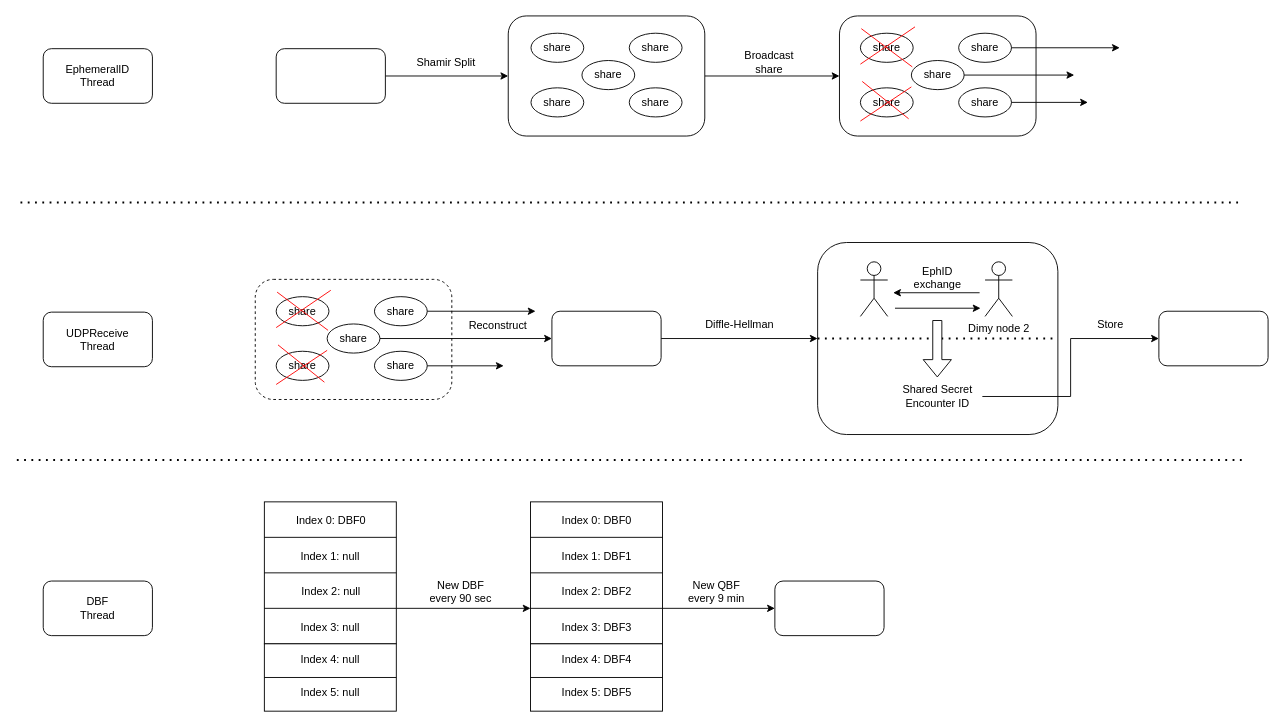
The diagram is 1284 pixels wide and 727 high, and some of its shapes have lost their labels. The centre of each missing label's shape, as x and y in pixels:
DBF Bloom Filter: the point at 1213,338
Dimy node 1: the point at 873,288
EphID: the point at 330,75
QBF: the point at 829,608
Shamir Secret: the point at 606,338
